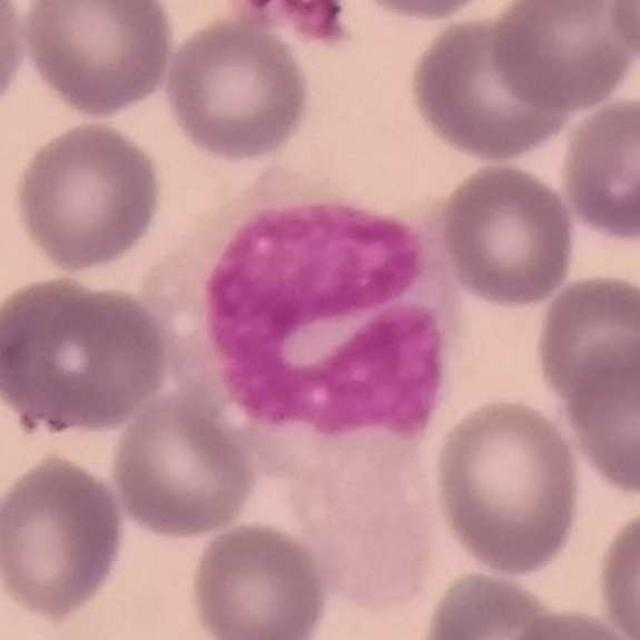Monocyte: (171, 189, 451, 606)
Platelets: (248, 0, 364, 47)
RBC: (428, 393, 586, 580), (404, 10, 577, 165), (8, 117, 168, 276), (106, 384, 259, 542), (159, 14, 315, 165), (0, 448, 130, 622), (435, 159, 580, 310), (30, 291, 170, 430), (16, 0, 177, 120), (184, 517, 331, 640), (481, 0, 635, 114), (0, 268, 112, 416), (531, 268, 640, 415), (560, 330, 640, 498), (555, 91, 640, 245), (416, 566, 580, 640), (105, 0, 295, 45), (593, 500, 640, 640), (491, 605, 640, 640), (343, 0, 511, 22), (0, 1, 31, 120), (603, 0, 640, 70)
